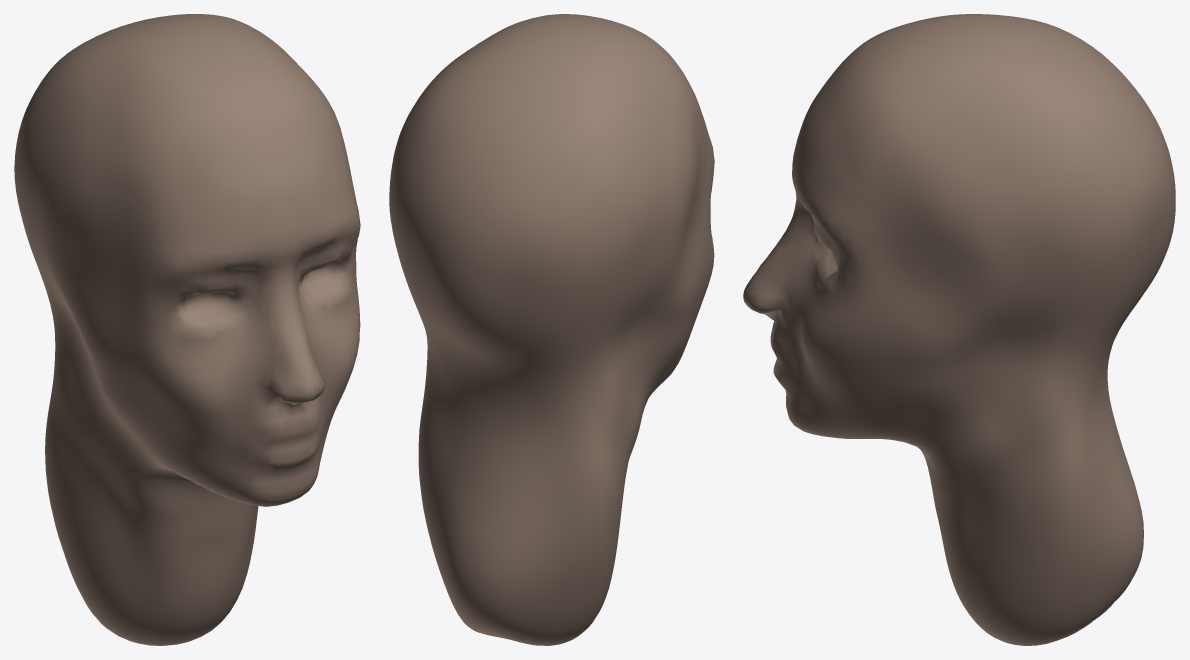
File: head6.glb
The picture shows the model from 3 angles, left to right: view 1: azimuth 30°, elevation 25°; view 2: azimuth 150°, elevation 25°; view 3: azimuth 270°, elevation 25°; orthographic projection. The views are drawn at different scales.
Visible parts, largest first — view 1: Quad Sphere; view 2: Quad Sphere; view 3: Quad Sphere.
Part boxes in pixels (x1,y1,x2,y2): Quad Sphere: (14,14,360,645); Quad Sphere: (389,14,714,645); Quad Sphere: (743,14,1175,645).
Size of the model in its own units: 1.69 by 3.68 by 2.39.
